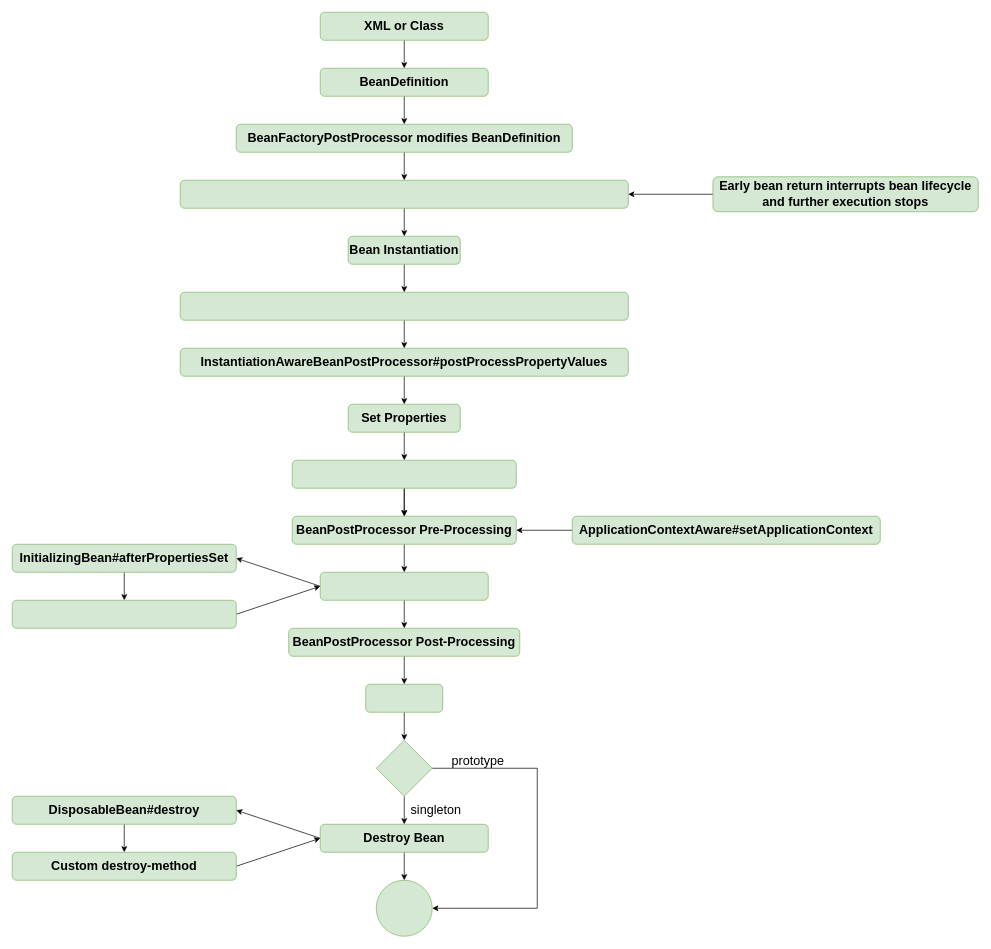
This 991x949 diagram has some shape labels left out. The shapes that lost their labels are listed below. From the top down, each one's centre as x and y in pixels, then its label:
At (404,194): "InstantiationAwareBeanPostProcessor#postProcessBeforeInstantiation".
At (404,306): "InstantiationAwareBeanPostProcessor#postProcessAfterInstantiation".
At (404,474): "BeanFactoryAware#setBeanFactory".
At (404,586): "Initialize Bean".
At (124,614): "Custom init-method".
At (404,698): "Bean Usage".
At (404,768): "scope？".
